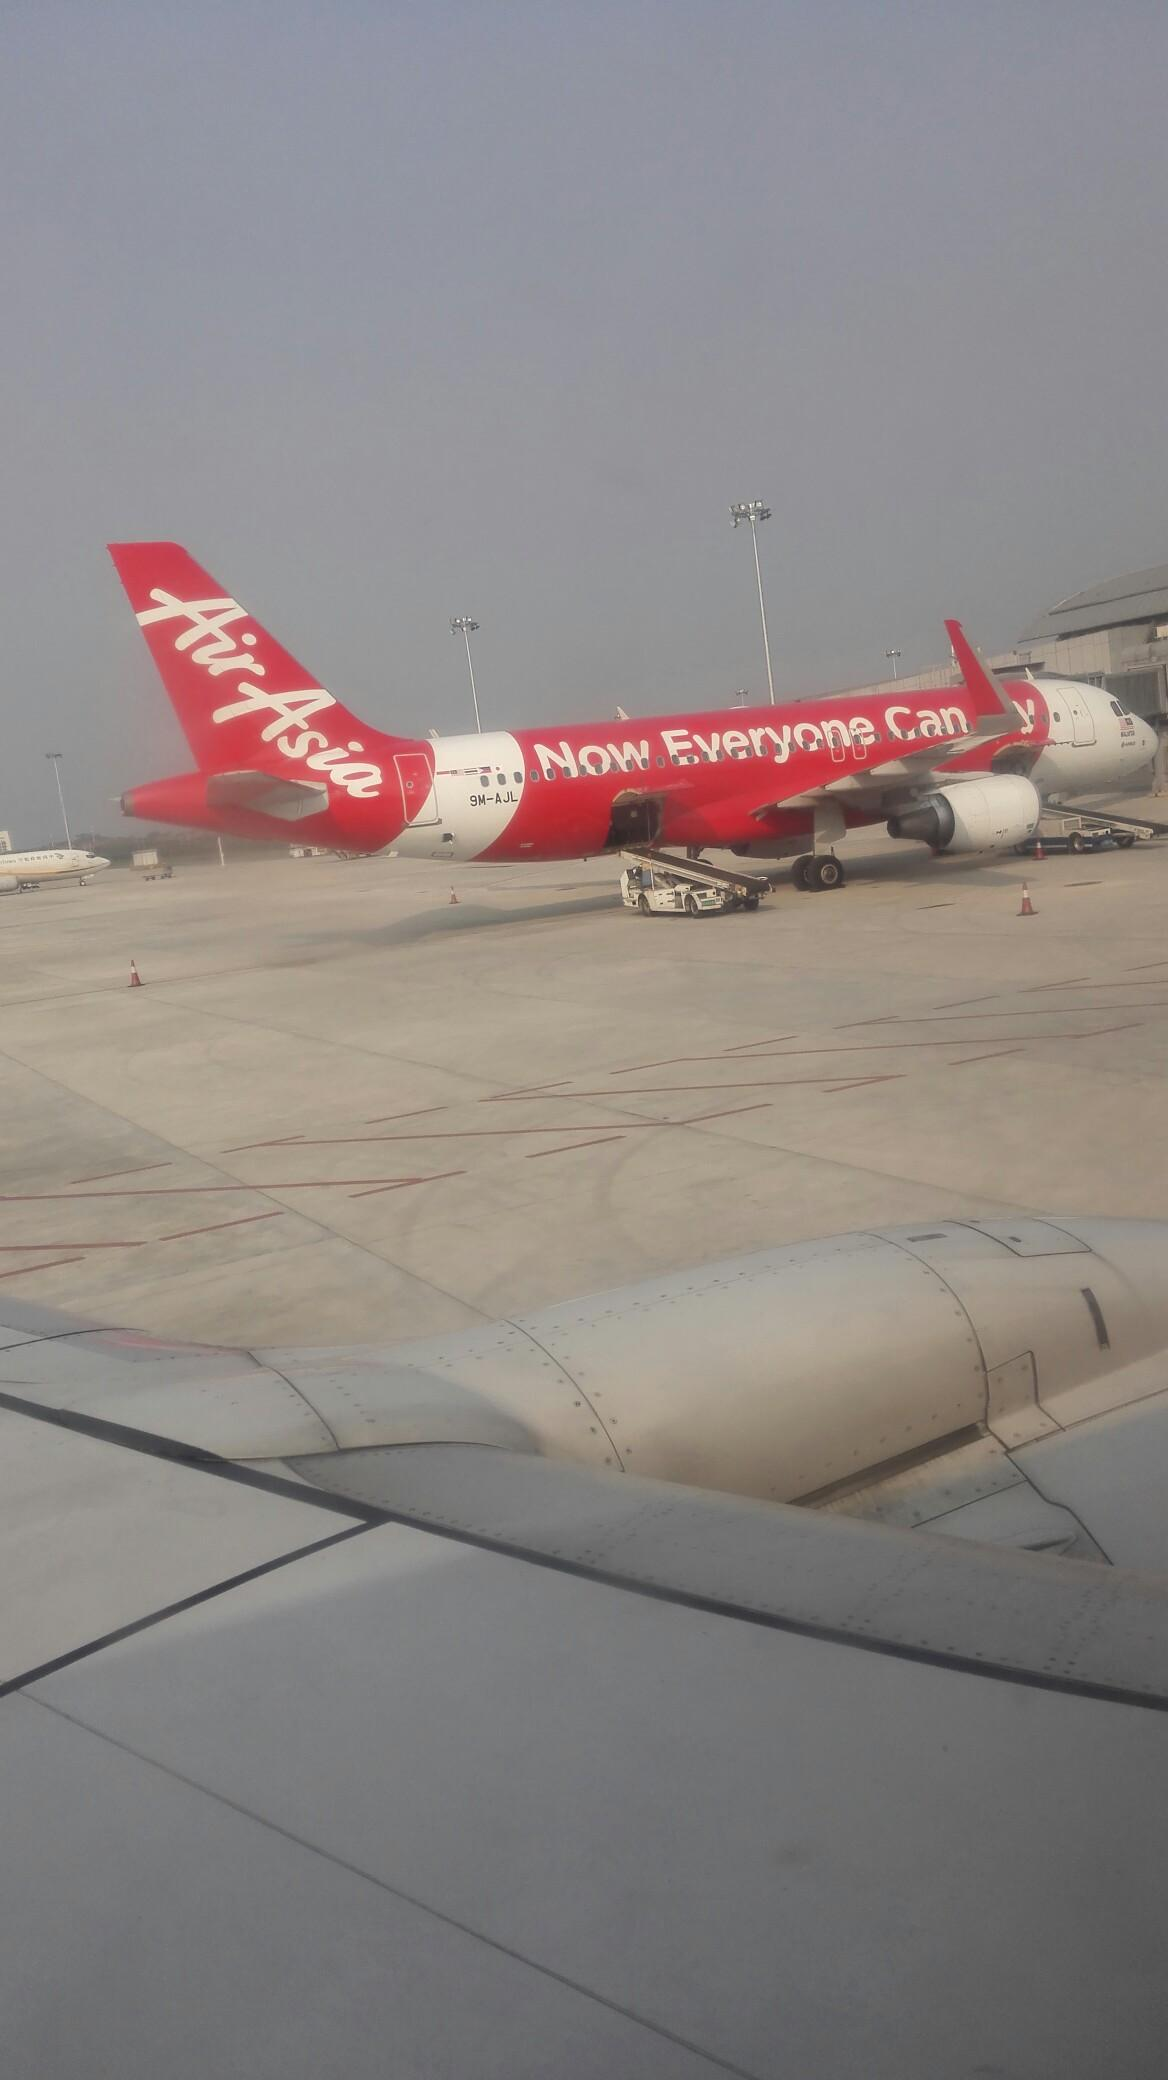airplane: (61, 534, 1148, 893)
